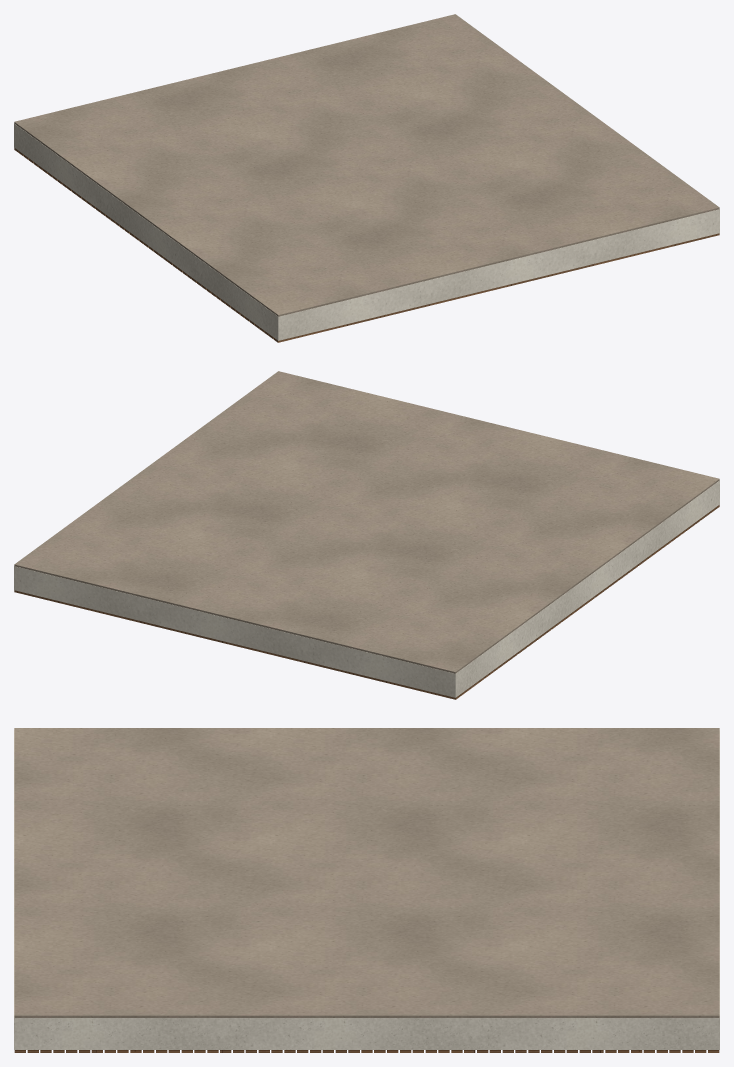
The model's file is c_roof_end.glb.
The picture shows the model from 3 angles, top to bottom: view 1: azimuth 30°, elevation 25°; view 2: azimuth 150°, elevation 25°; view 3: azimuth 270°, elevation 25°; orthographic projection. The views are drawn at different scales.
Visible parts, largest first — view 1: c_roof_end_roofdeck, c_roof_end_plaster, c_roof_end_planks; view 2: c_roof_end_roofdeck, c_roof_end_plaster, c_roof_end_planks; view 3: c_roof_end_roofdeck, c_roof_end_plaster, c_roof_end_planks.
Boxes of the visible parts, x1,y1,x2,y2 form: c_roof_end_roofdeck: (14,14,719,316); c_roof_end_plaster: (14,123,719,340); c_roof_end_planks: (14,148,719,342); c_roof_end_roofdeck: (14,371,719,673); c_roof_end_plaster: (14,480,719,697); c_roof_end_planks: (14,505,719,699); c_roof_end_roofdeck: (14,728,719,1017); c_roof_end_plaster: (14,730,719,1049); c_roof_end_planks: (14,1050,719,1052).
Size of the model in its own units: 5.4 by 0.325 by 5.6.
Materials: 3 (3 with a texture image).
